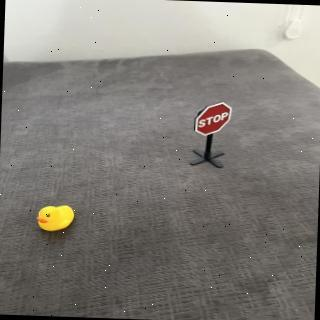duck_regular: (35, 203, 79, 235)
sign_stop: (195, 101, 235, 139)
